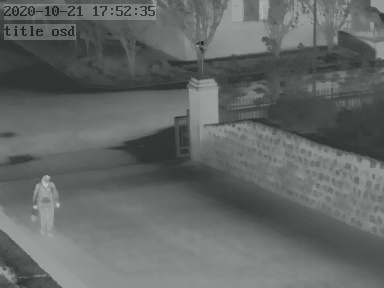person: (32, 174, 58, 236)
